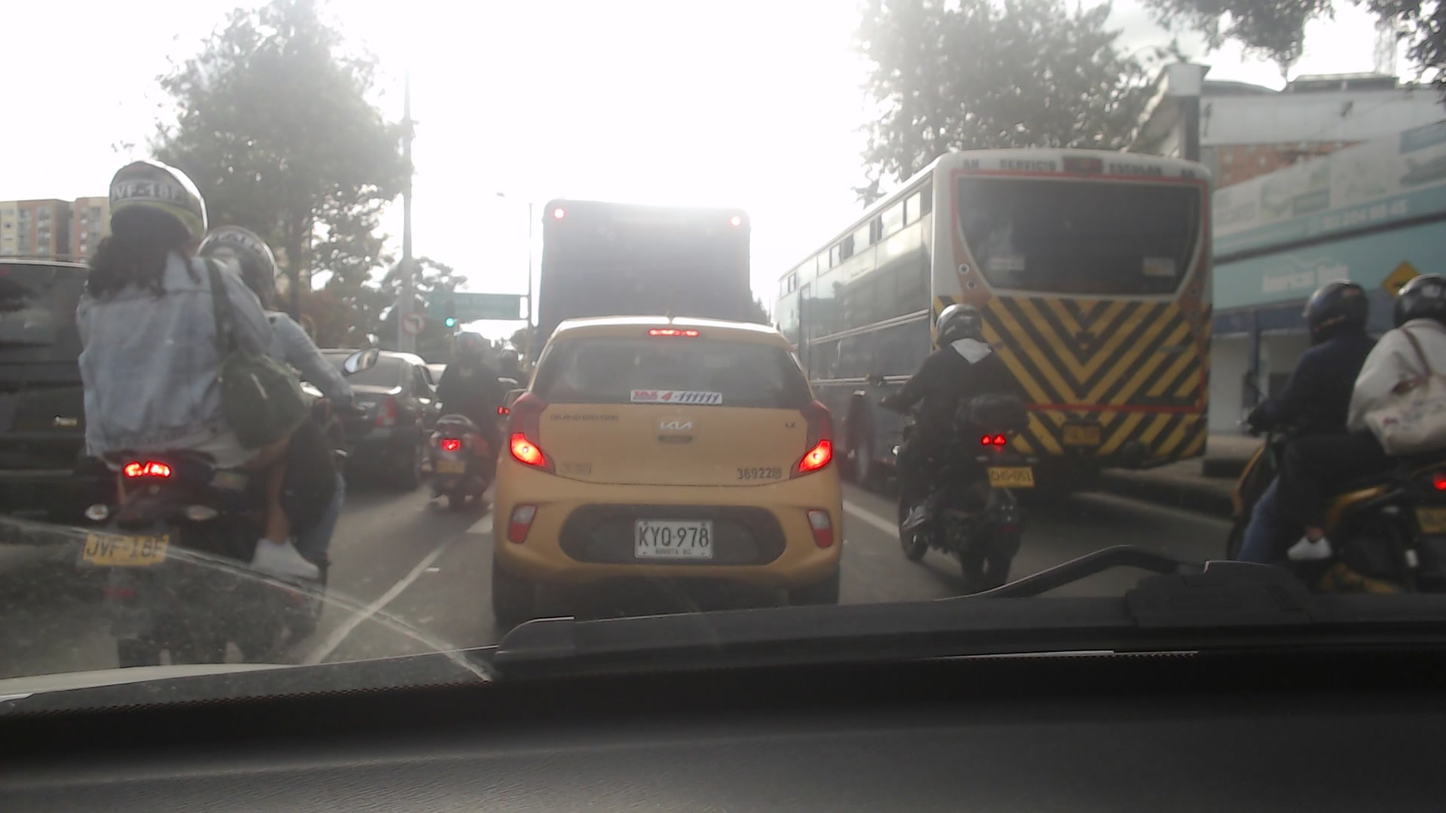bus: (752, 142, 1216, 502)
car: (482, 318, 842, 613), (312, 345, 433, 497)
motorcycle: (76, 450, 349, 660), (1219, 419, 1446, 627), (868, 411, 1047, 595), (426, 423, 489, 508)
person: (96, 146, 312, 572), (195, 223, 355, 464), (1251, 273, 1372, 550), (886, 303, 1029, 491), (1350, 276, 1446, 508), (440, 330, 502, 431)
truck: (538, 196, 758, 332)
